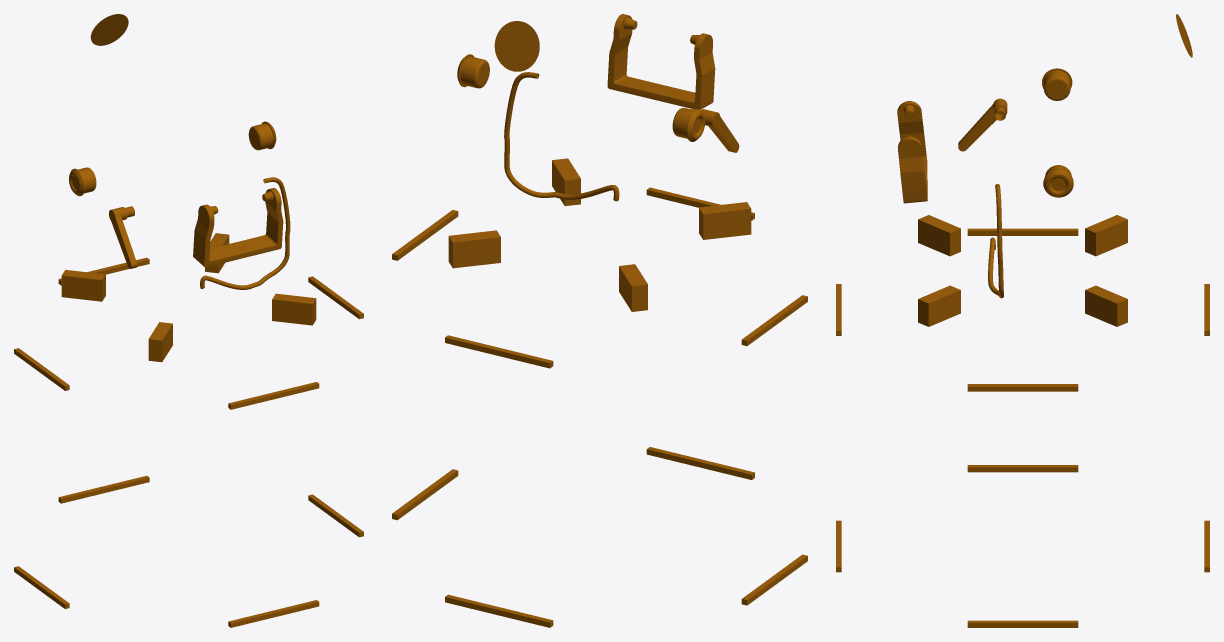
The model's file is shooter3.fbx.
3 views of the same model, side by side, from view 1: azimuth 30°, elevation 25°; view 2: azimuth 150°, elevation 25°; view 3: azimuth 270°, elevation 25° (orthographic). The views are drawn at different scales.
Visible parts, largest first — view 1: shooter3; view 2: shooter3; view 3: shooter3.
Part boxes in pixels (x1,y1,x2,y2): shooter3: (14, 14, 363, 627); shooter3: (392, 14, 807, 627); shooter3: (836, 14, 1209, 627).
Size of the model in its own units: 82.35 by 129 by 82.35.
